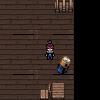Hide: (52, 0, 73, 14)
Obstacle: (40, 80, 66, 100)
Victim: (43, 39, 56, 60)
Win: (56, 56, 74, 74)
